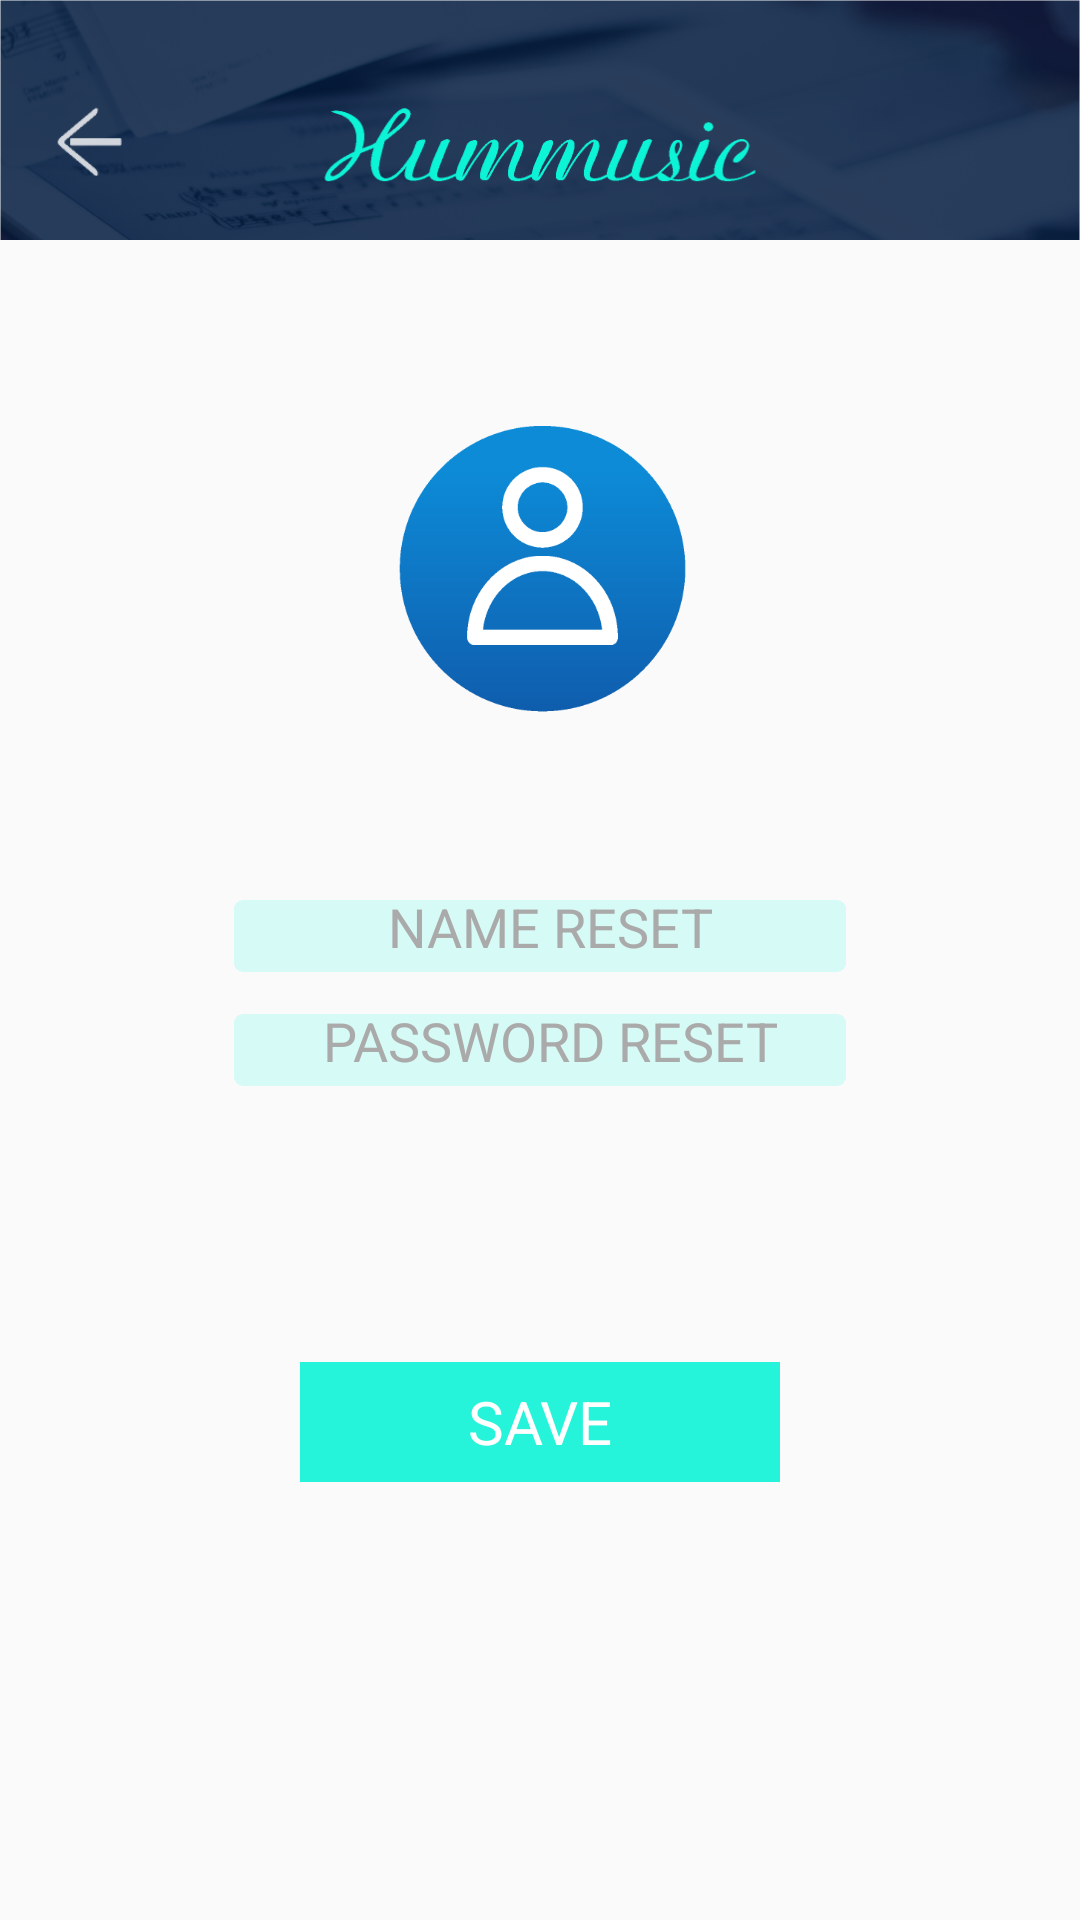

Screen size 1080px×1920px. Icon name, then its box in pixels as (x1, y1, x2, y2):
back: (57, 107, 122, 176)
profile: (399, 426, 686, 712)
